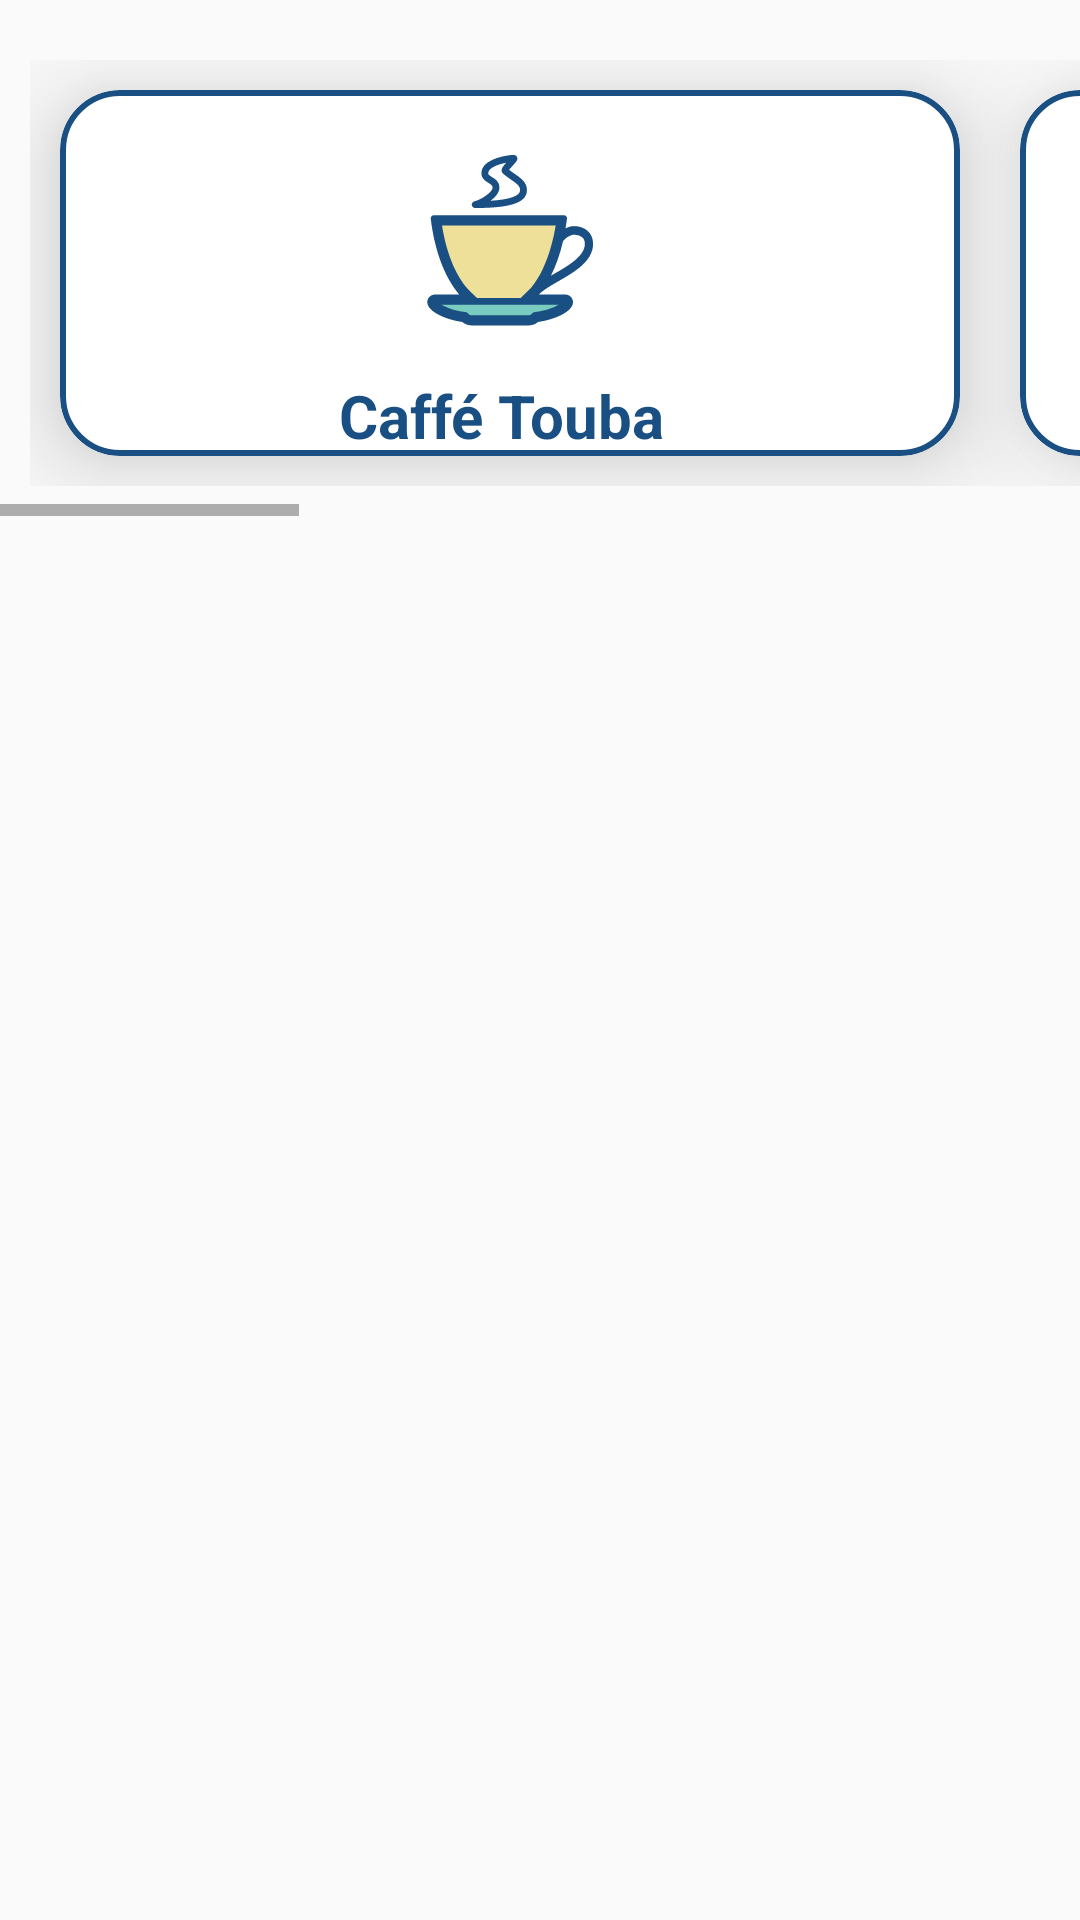

Screen size 1080w x 1920h. Icon name, then its box in pixels as box=[x1, y1, x2, y2]:
tea: box=[427, 155, 593, 326]
